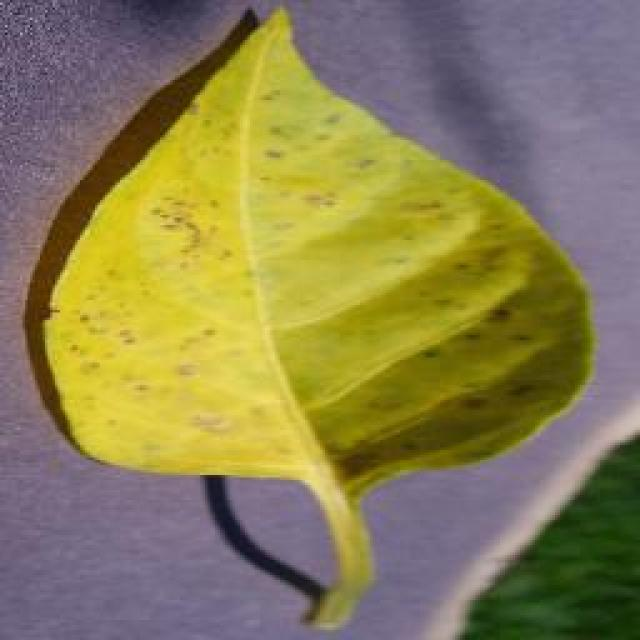Chilli_Bacterial_Spot: (20, 0, 600, 632), (145, 192, 207, 262), (185, 408, 235, 440), (295, 185, 340, 217), (170, 355, 202, 383), (110, 322, 140, 350)
